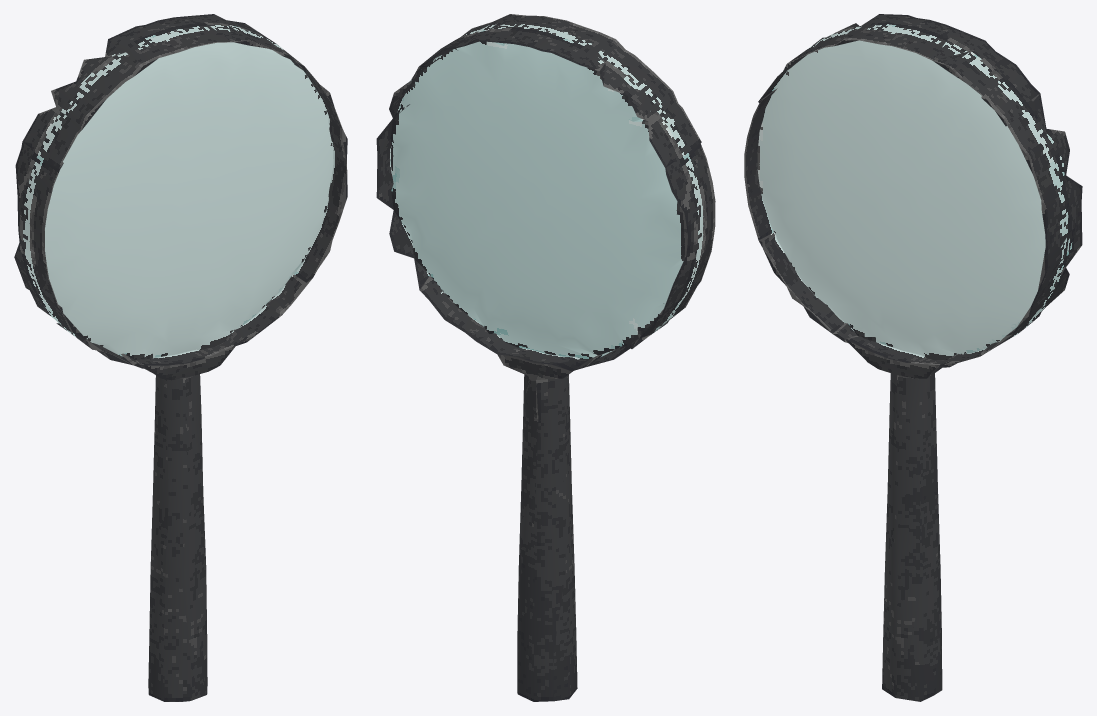
Rendered from magnifying_glass_01.glb.
The picture shows the model from 3 angles, left to right: view 1: azimuth 30°, elevation 25°; view 2: azimuth 150°, elevation 25°; view 3: azimuth 330°, elevation 25°; orthographic projection.
Parts seen in each view (by area): view 1: mesh; view 2: mesh; view 3: mesh.
Part boxes in pixels (x1,y1,x2,y2): mesh: [14, 14, 347, 701]; mesh: [376, 14, 715, 701]; mesh: [744, 14, 1082, 701].
Bounding box in the file's own units: 15.8 × 32.59 × 3.25.
Materials: 1 (1 with a texture image).
